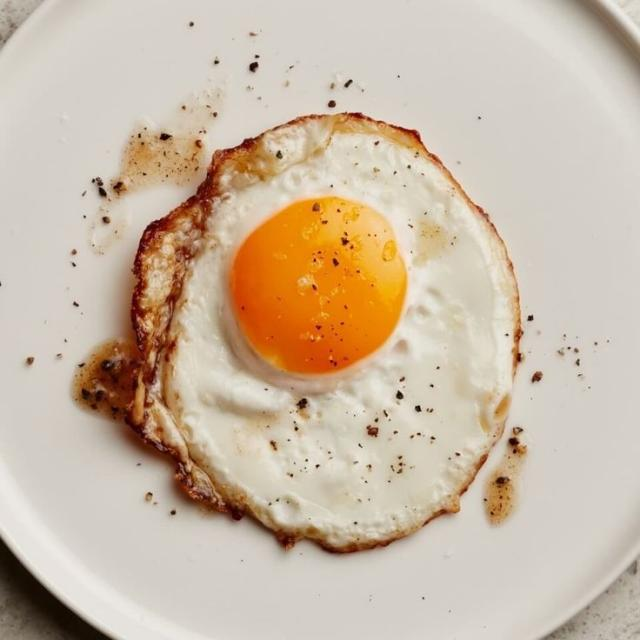fryed egg: (131, 114, 519, 551)
